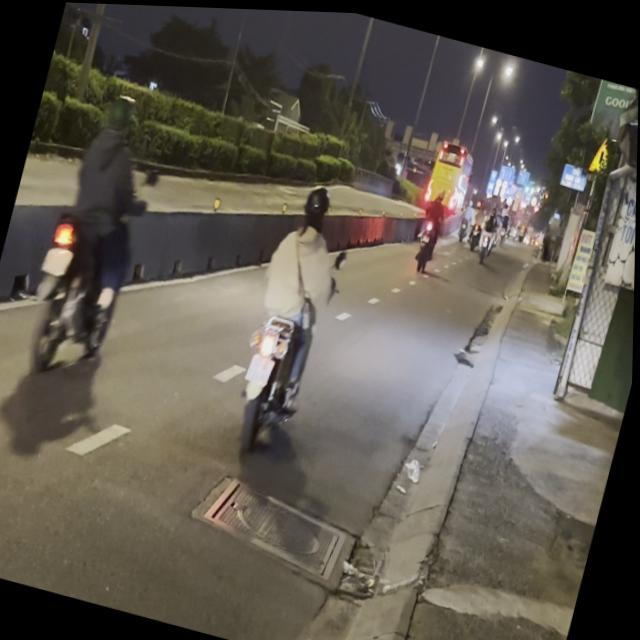helmet: (297, 178, 336, 232), (101, 90, 137, 138)
licenseplate: (12, 80, 181, 394), (218, 169, 361, 461)
nohelmet: (41, 244, 74, 278), (245, 349, 277, 383)
